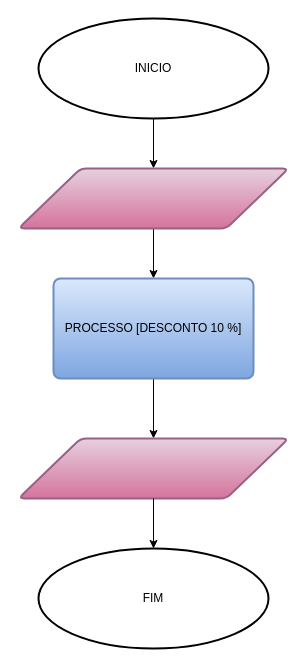
This 306x666 diagram has some shape labels left out. The centre of each missing label's shape, as x and y in pixels:
DIGITE O VALOR DO PRODUTO:: [153,198]
RESULTADO: [153,468]
